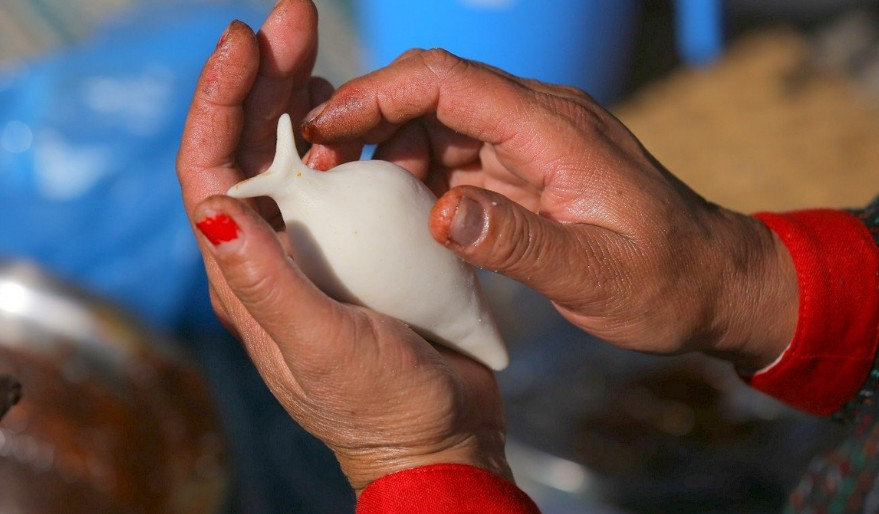yomari: (228, 108, 518, 379)
